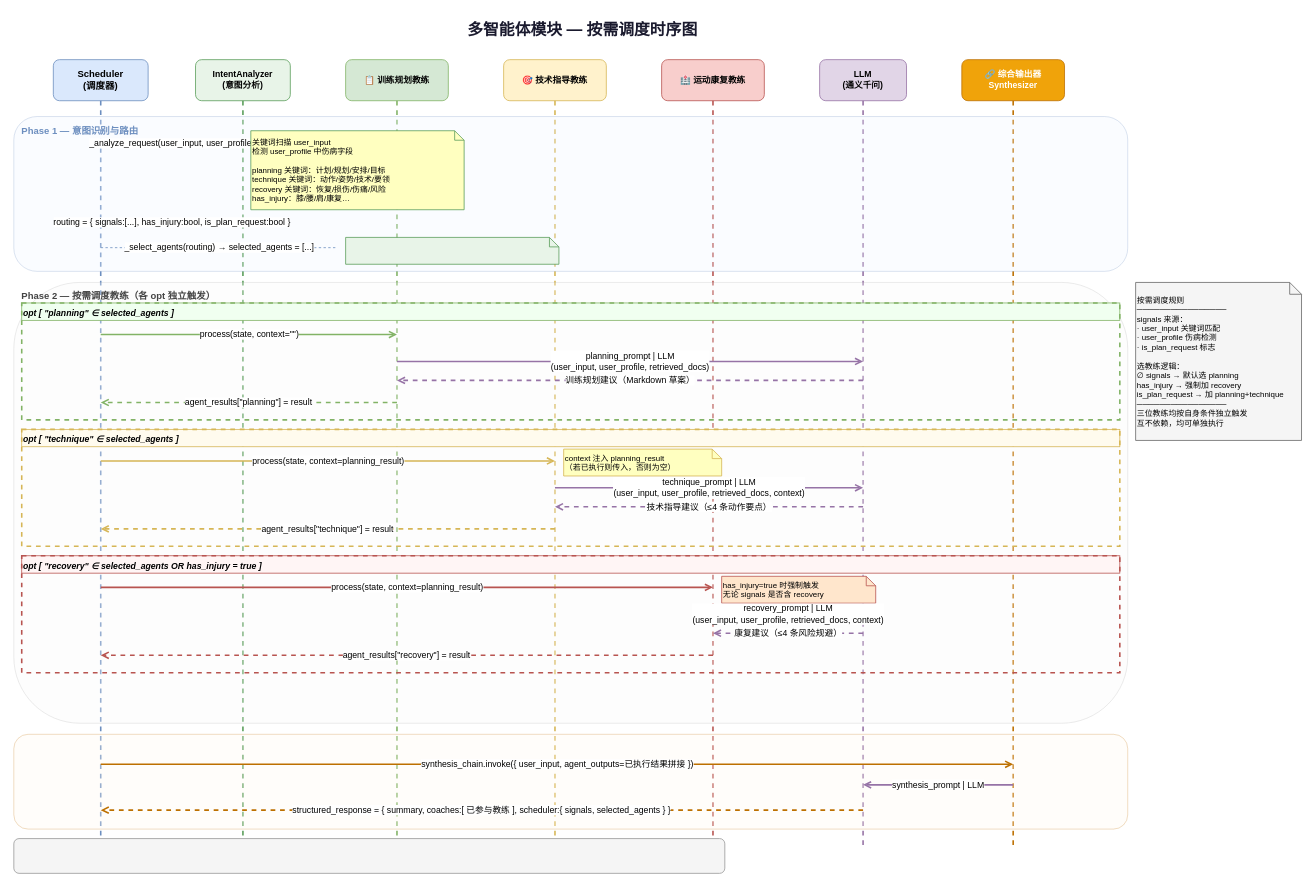
Image size: 1315x887. Some labels were removed from this diagram. Each missing label, with the box of its shape:
Phase 3 — 综合输出（仅汇总已执行的教练结果）: (13, 734, 1128, 829)
planning 不在信号中也默认选中 recovery 在 has_injury=true 时强制选中: (345, 237, 559, 264)
→ 调用 --→ 返回值 opt[ 条件 ] = 仅当条件成立时执行该教练 三个 opt 相互独立，由路由结果各自决定是否触发: (13, 838, 725, 873)
